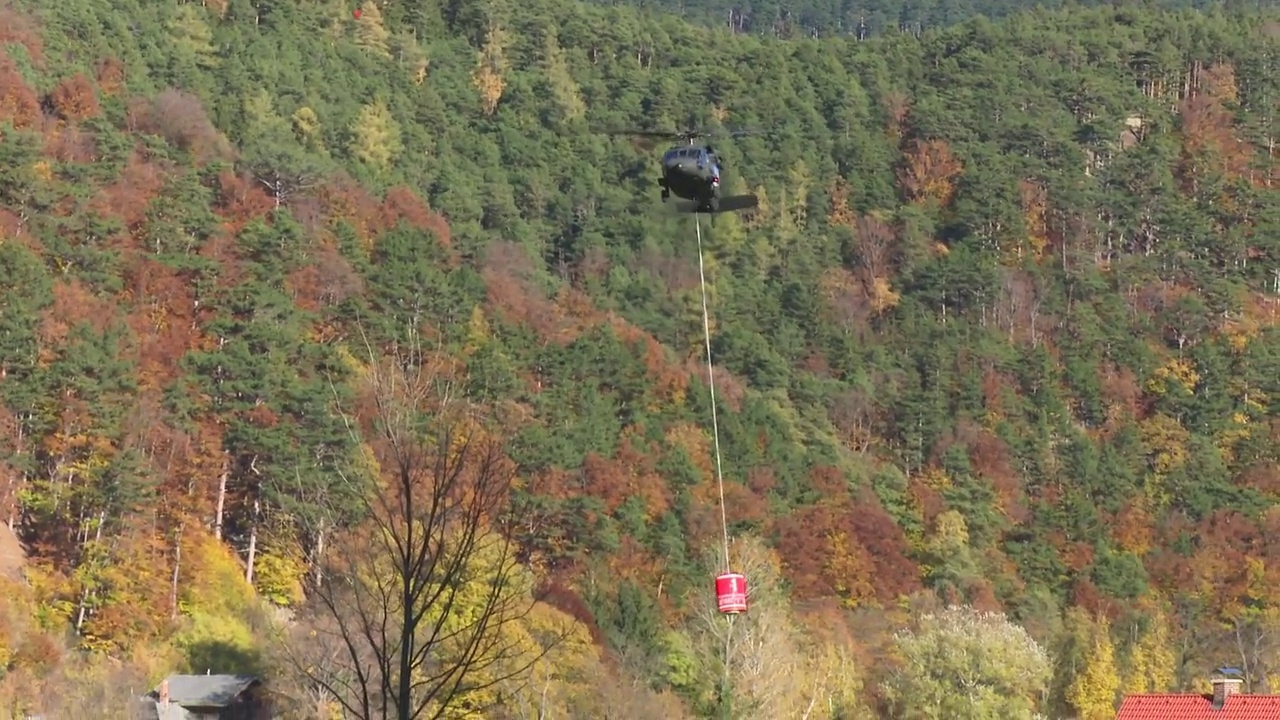heli: (612, 125, 759, 211)
